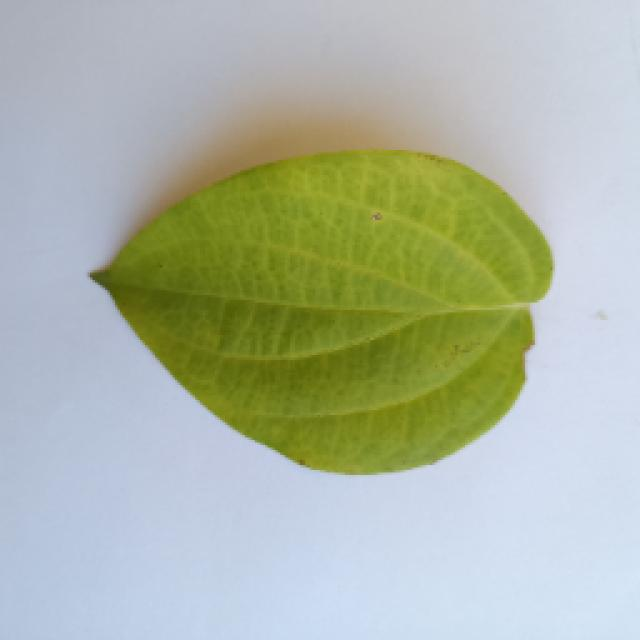slow-decline: (85, 143, 553, 475)
